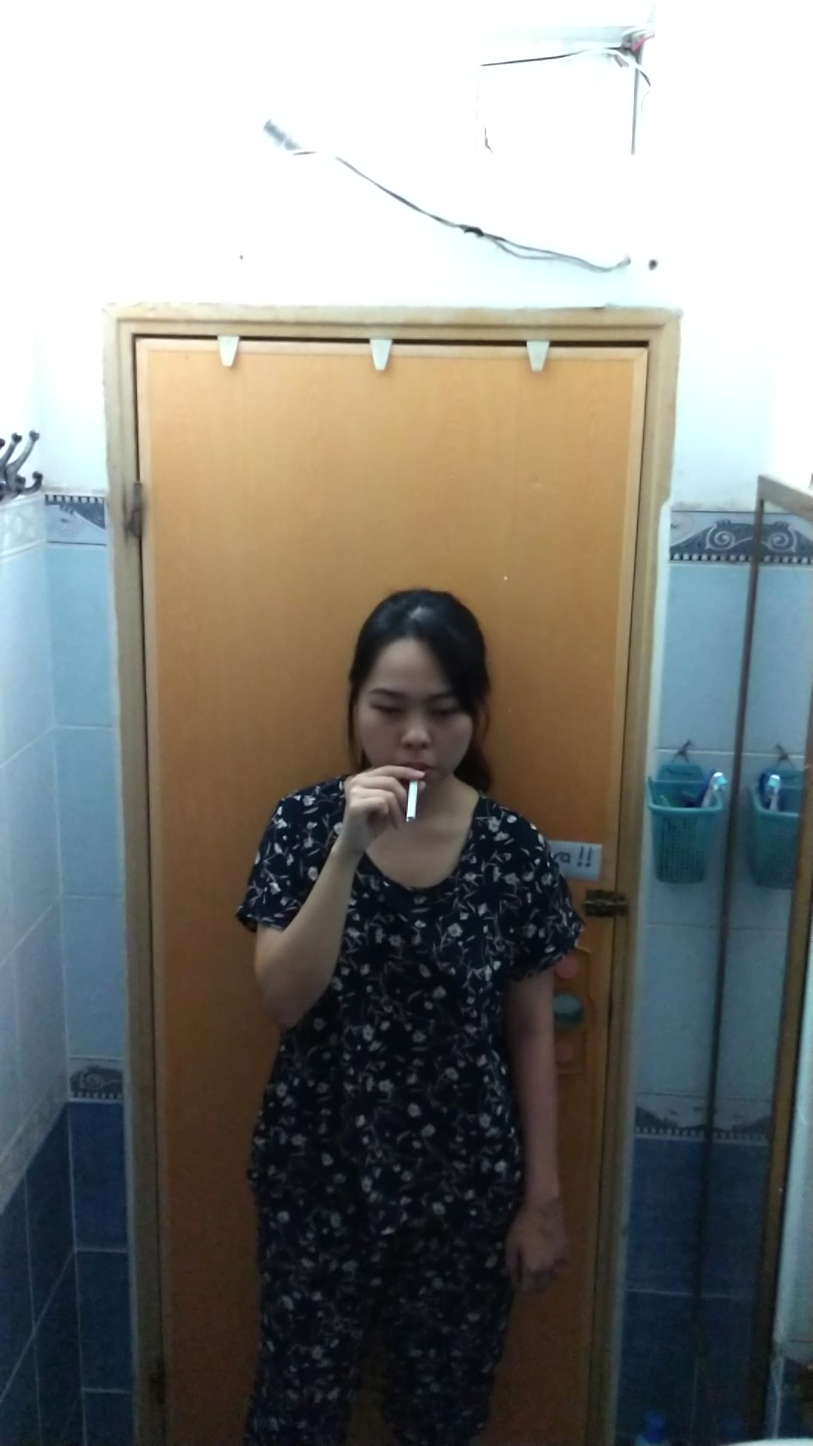cigarette: (400, 779, 425, 825)
person: (226, 581, 592, 1446)
